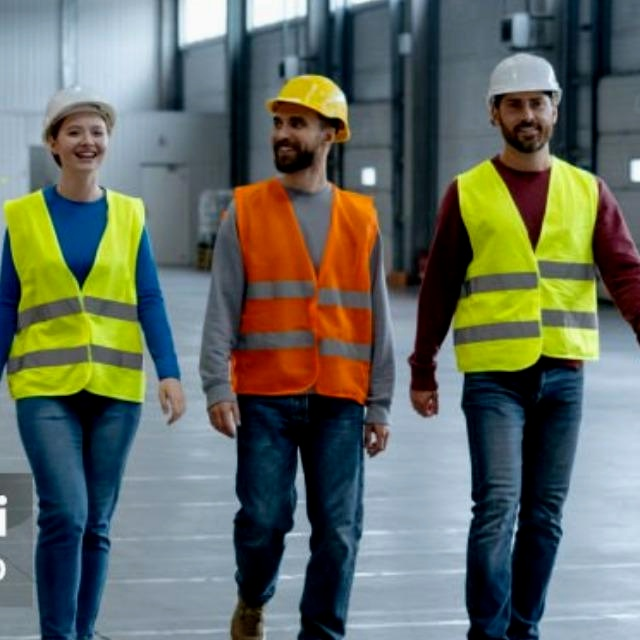Con_Casco: (257, 70, 359, 173), (481, 52, 560, 153), (34, 85, 122, 174)
Con_Chaleco: (443, 154, 609, 372), (220, 180, 378, 397), (2, 187, 152, 401)
